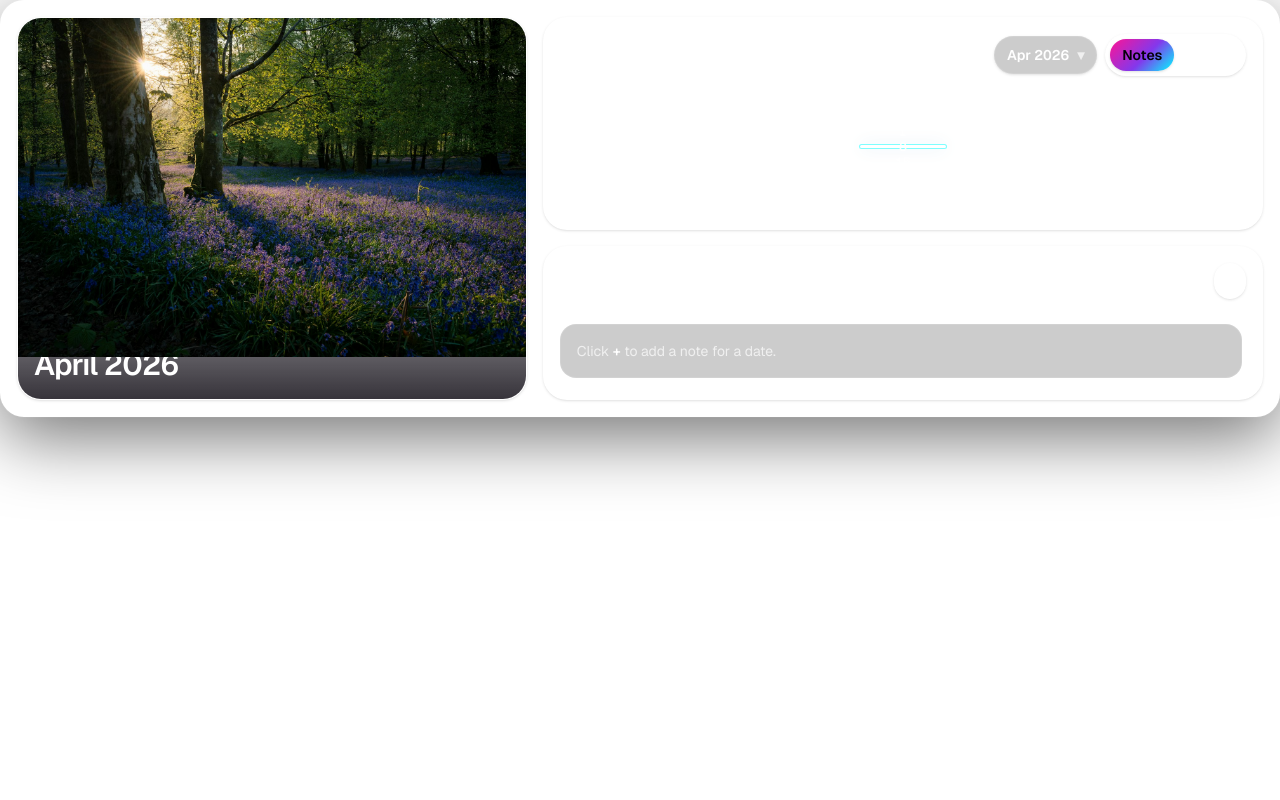
<WallCalendar /> › jumps to a different month via the month/year picker
The image size is (1280, 800).
Check: the heading "April 2026" is shown, box [34,347,178,383]
Click the button with aria-label "Month and year" at (1046, 55), box [994,36,1097,74]
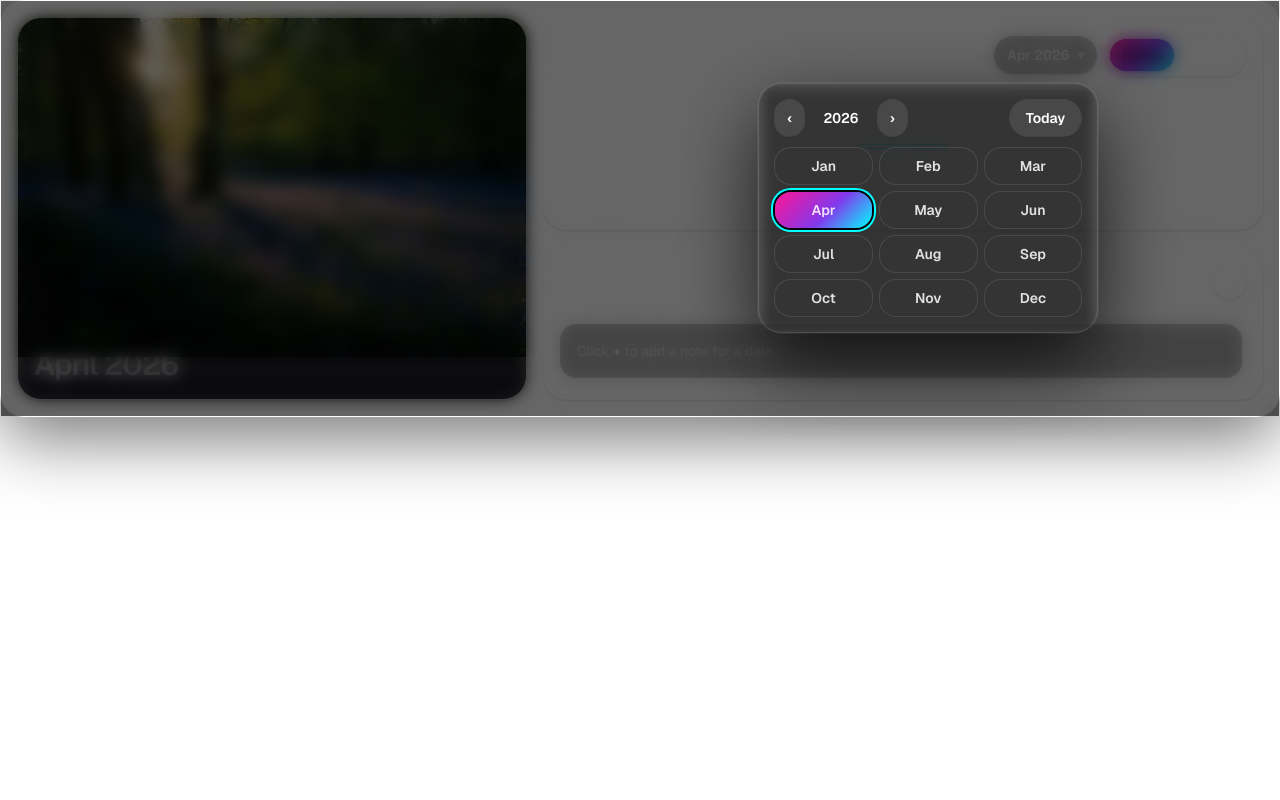
Check: the dialog named "Month and year" is shown, box [1,1,1279,416]
Press Escape
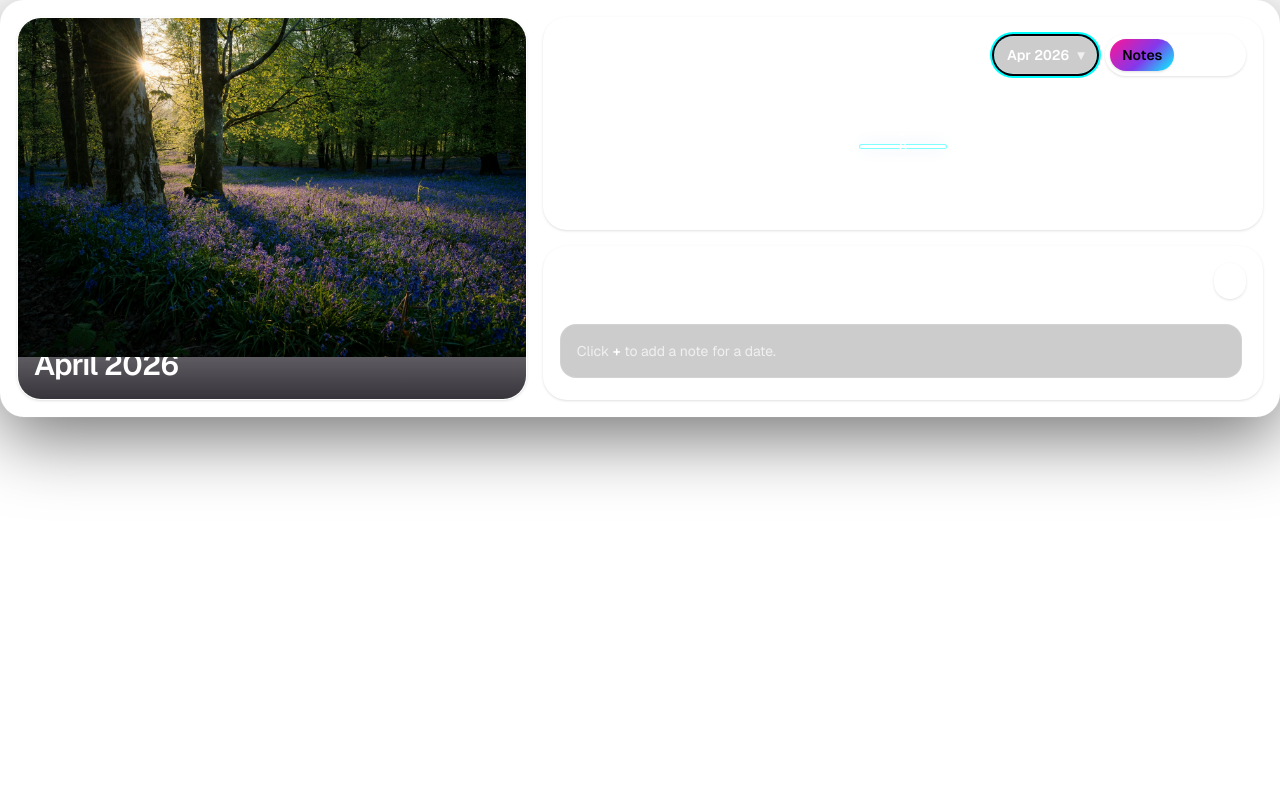
Click the button with aria-label "Month and year" at (1046, 55), box [994,36,1097,74]
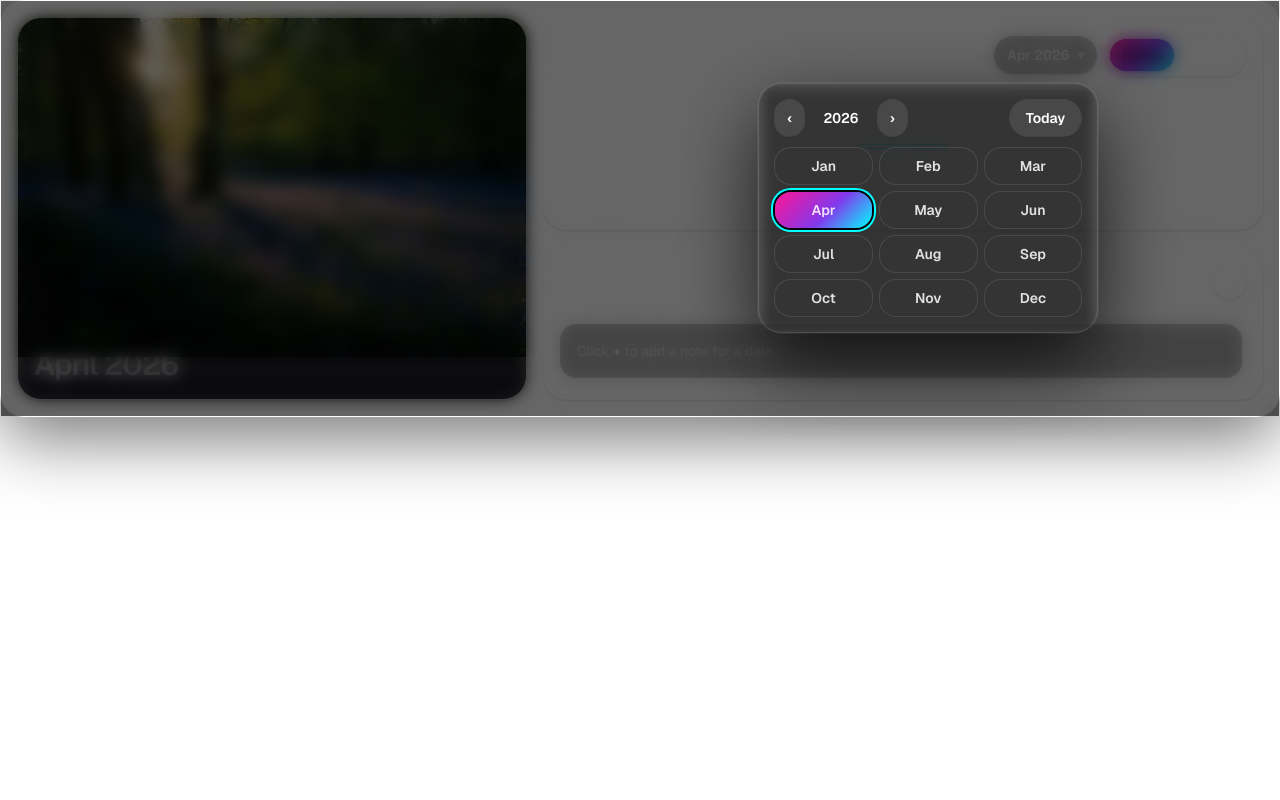
Click the button with aria-label "May 2026" at (928, 210), box [880,192,977,228]
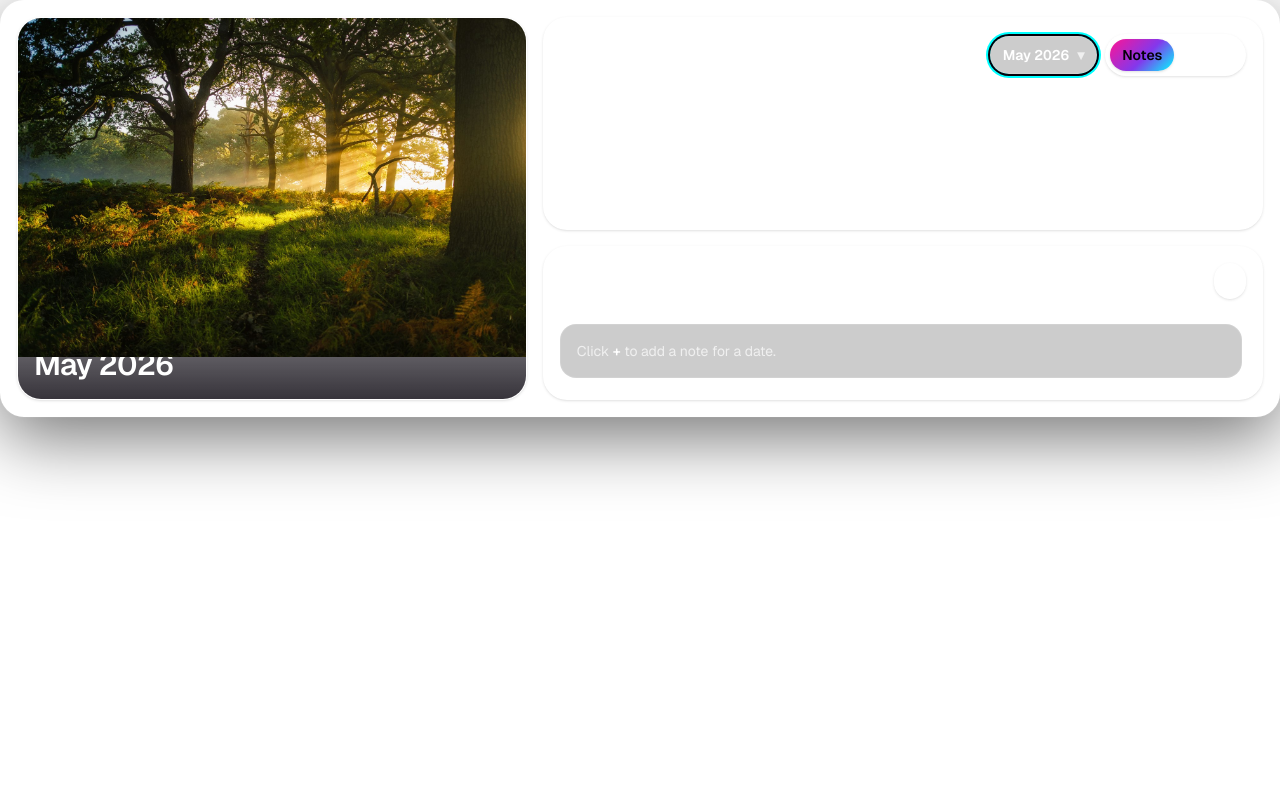
Check: the heading "May 2026" is shown, box [34,347,173,383]
